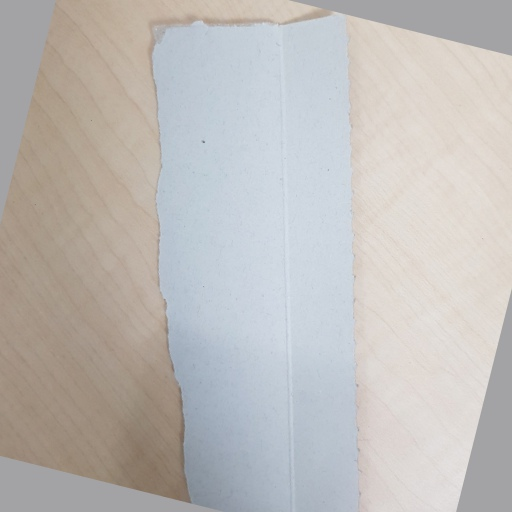Paper_2: (149, 14, 366, 512)
